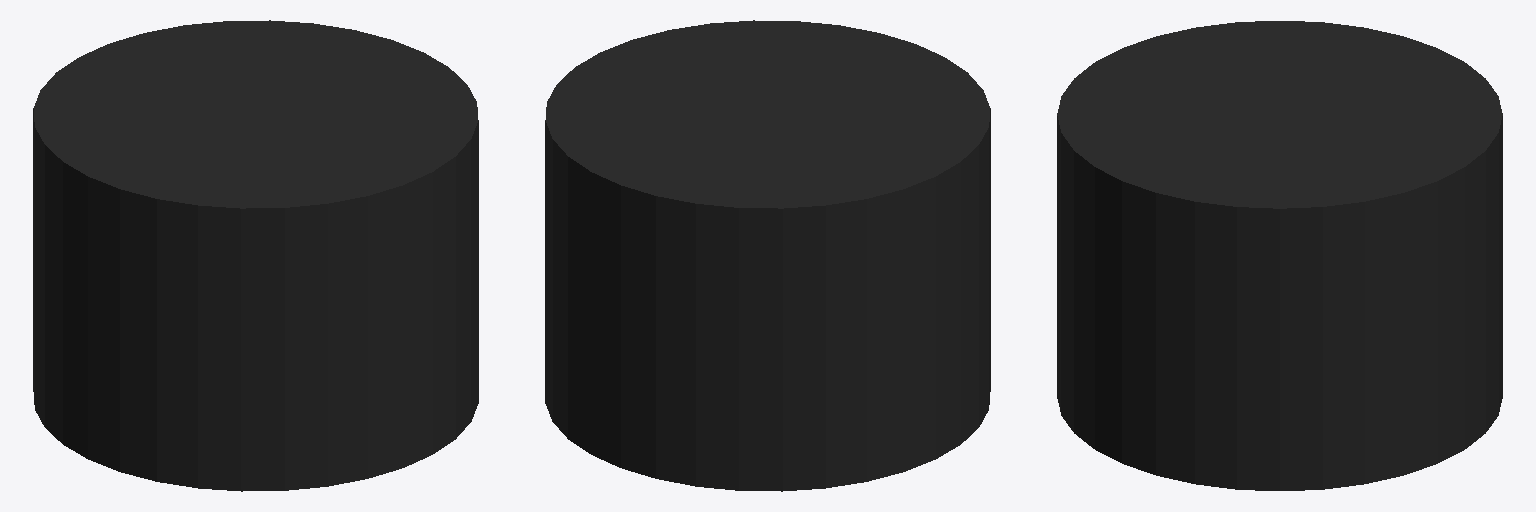
URDF robot description (cartographer_backpack_3d):
<!--
  Copyright 2016 The Cartographer Authors

  Licensed under the Apache License, Version 2.0 (the "License");
  you may not use this file except in compliance with the License.
  You may obtain a copy of the License at

       http://www.apache.org/licenses/LICENSE-2.0

  Unless required by applicable law or agreed to in writing, software
  distributed under the License is distributed on an "AS IS" BASIS,
  WITHOUT WARRANTIES OR CONDITIONS OF ANY KIND, either express or implied.
  See the License for the specific language governing permissions and
  limitations under the License.
-->

<robot name="cartographer_backpack_3d">
  <material name="orange">
    <color rgba="1.0 0.5 0.2 1" />
  </material>
  <material name="gray">
    <color rgba="0.2 0.2 0.2 1" />
  </material>

  <link name="os1_imu">
    <visual>
      <origin xyz="0.0 0.0 0.0" />
      <geometry>
        <box size="0.06 0.04 0.02" />
      </geometry>
      <material name="orange" />
    </visual>
  </link>

  <link name="os1">
    <visual>
      <origin xyz="0.0 0.0 0.0" />
      <geometry>
        <cylinder length="0.07" radius="0.05" />
      </geometry>
      <material name="gray" />
    </visual>
  </link>

  <link name="base_link" />

  <joint name="imu_link_joint" type="fixed">
    <parent link="base_link" />
    <child link="os1_imu" />
    <origin xyz="0 0 0" rpy="0 0 0" />
  </joint>

  <joint name="os1_link_joint" type="fixed">
    <parent link="base_link" />
    <child link="os1" />
    <origin xyz="0.00 0. 0.0" rpy="0. 0 0" />
  </joint>

</robot>

--- Render facts (derived) ---
Views: 3 orthographic renders of the robot side by side, from view 1: azimuth 30°, elevation 25°; view 2: azimuth 150°, elevation 25°; view 3: azimuth 270°, elevation 25°.
Model cartographer_backpack_3d with 3 links and 2 joints (2 fixed), rooted at base_link, posed every joint at zero.
Visible links, largest first — view 1: os1; view 2: os1; view 3: os1.
Boxes of the visible links, x1,y1,x2,y2 form: os1: (33,20,478,491); os1: (545,20,990,491); os1: (1057,21,1502,490).
Size in the robot's own frame: 0.1 by 0.1 by 0.07 metres.
Geometry: primitives only (box / cylinder / sphere), no mesh files.